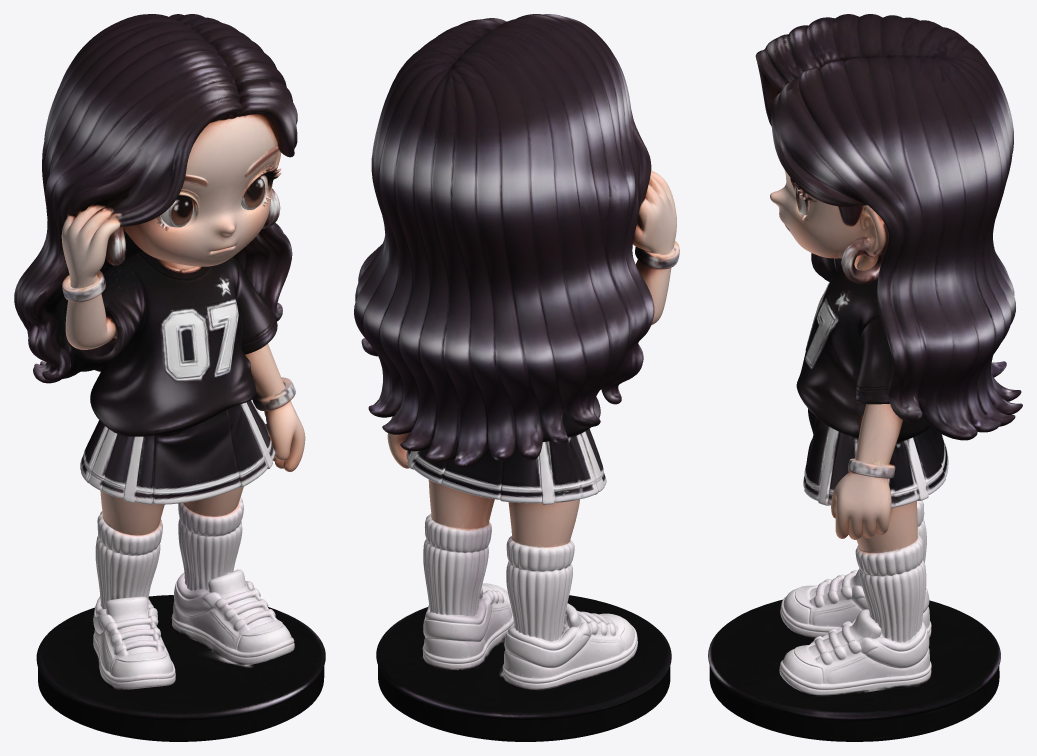
The model's file is sweaty2.glb.
3 renders of one model, left to right at view 1: azimuth 30°, elevation 25°; view 2: azimuth 150°, elevation 25°; view 3: azimuth 270°, elevation 25°, orthographic. The views are drawn at different scales.
Size of the model in its own units: 0.491 by 1.11 by 0.4799.
1 material, 1 textured.
